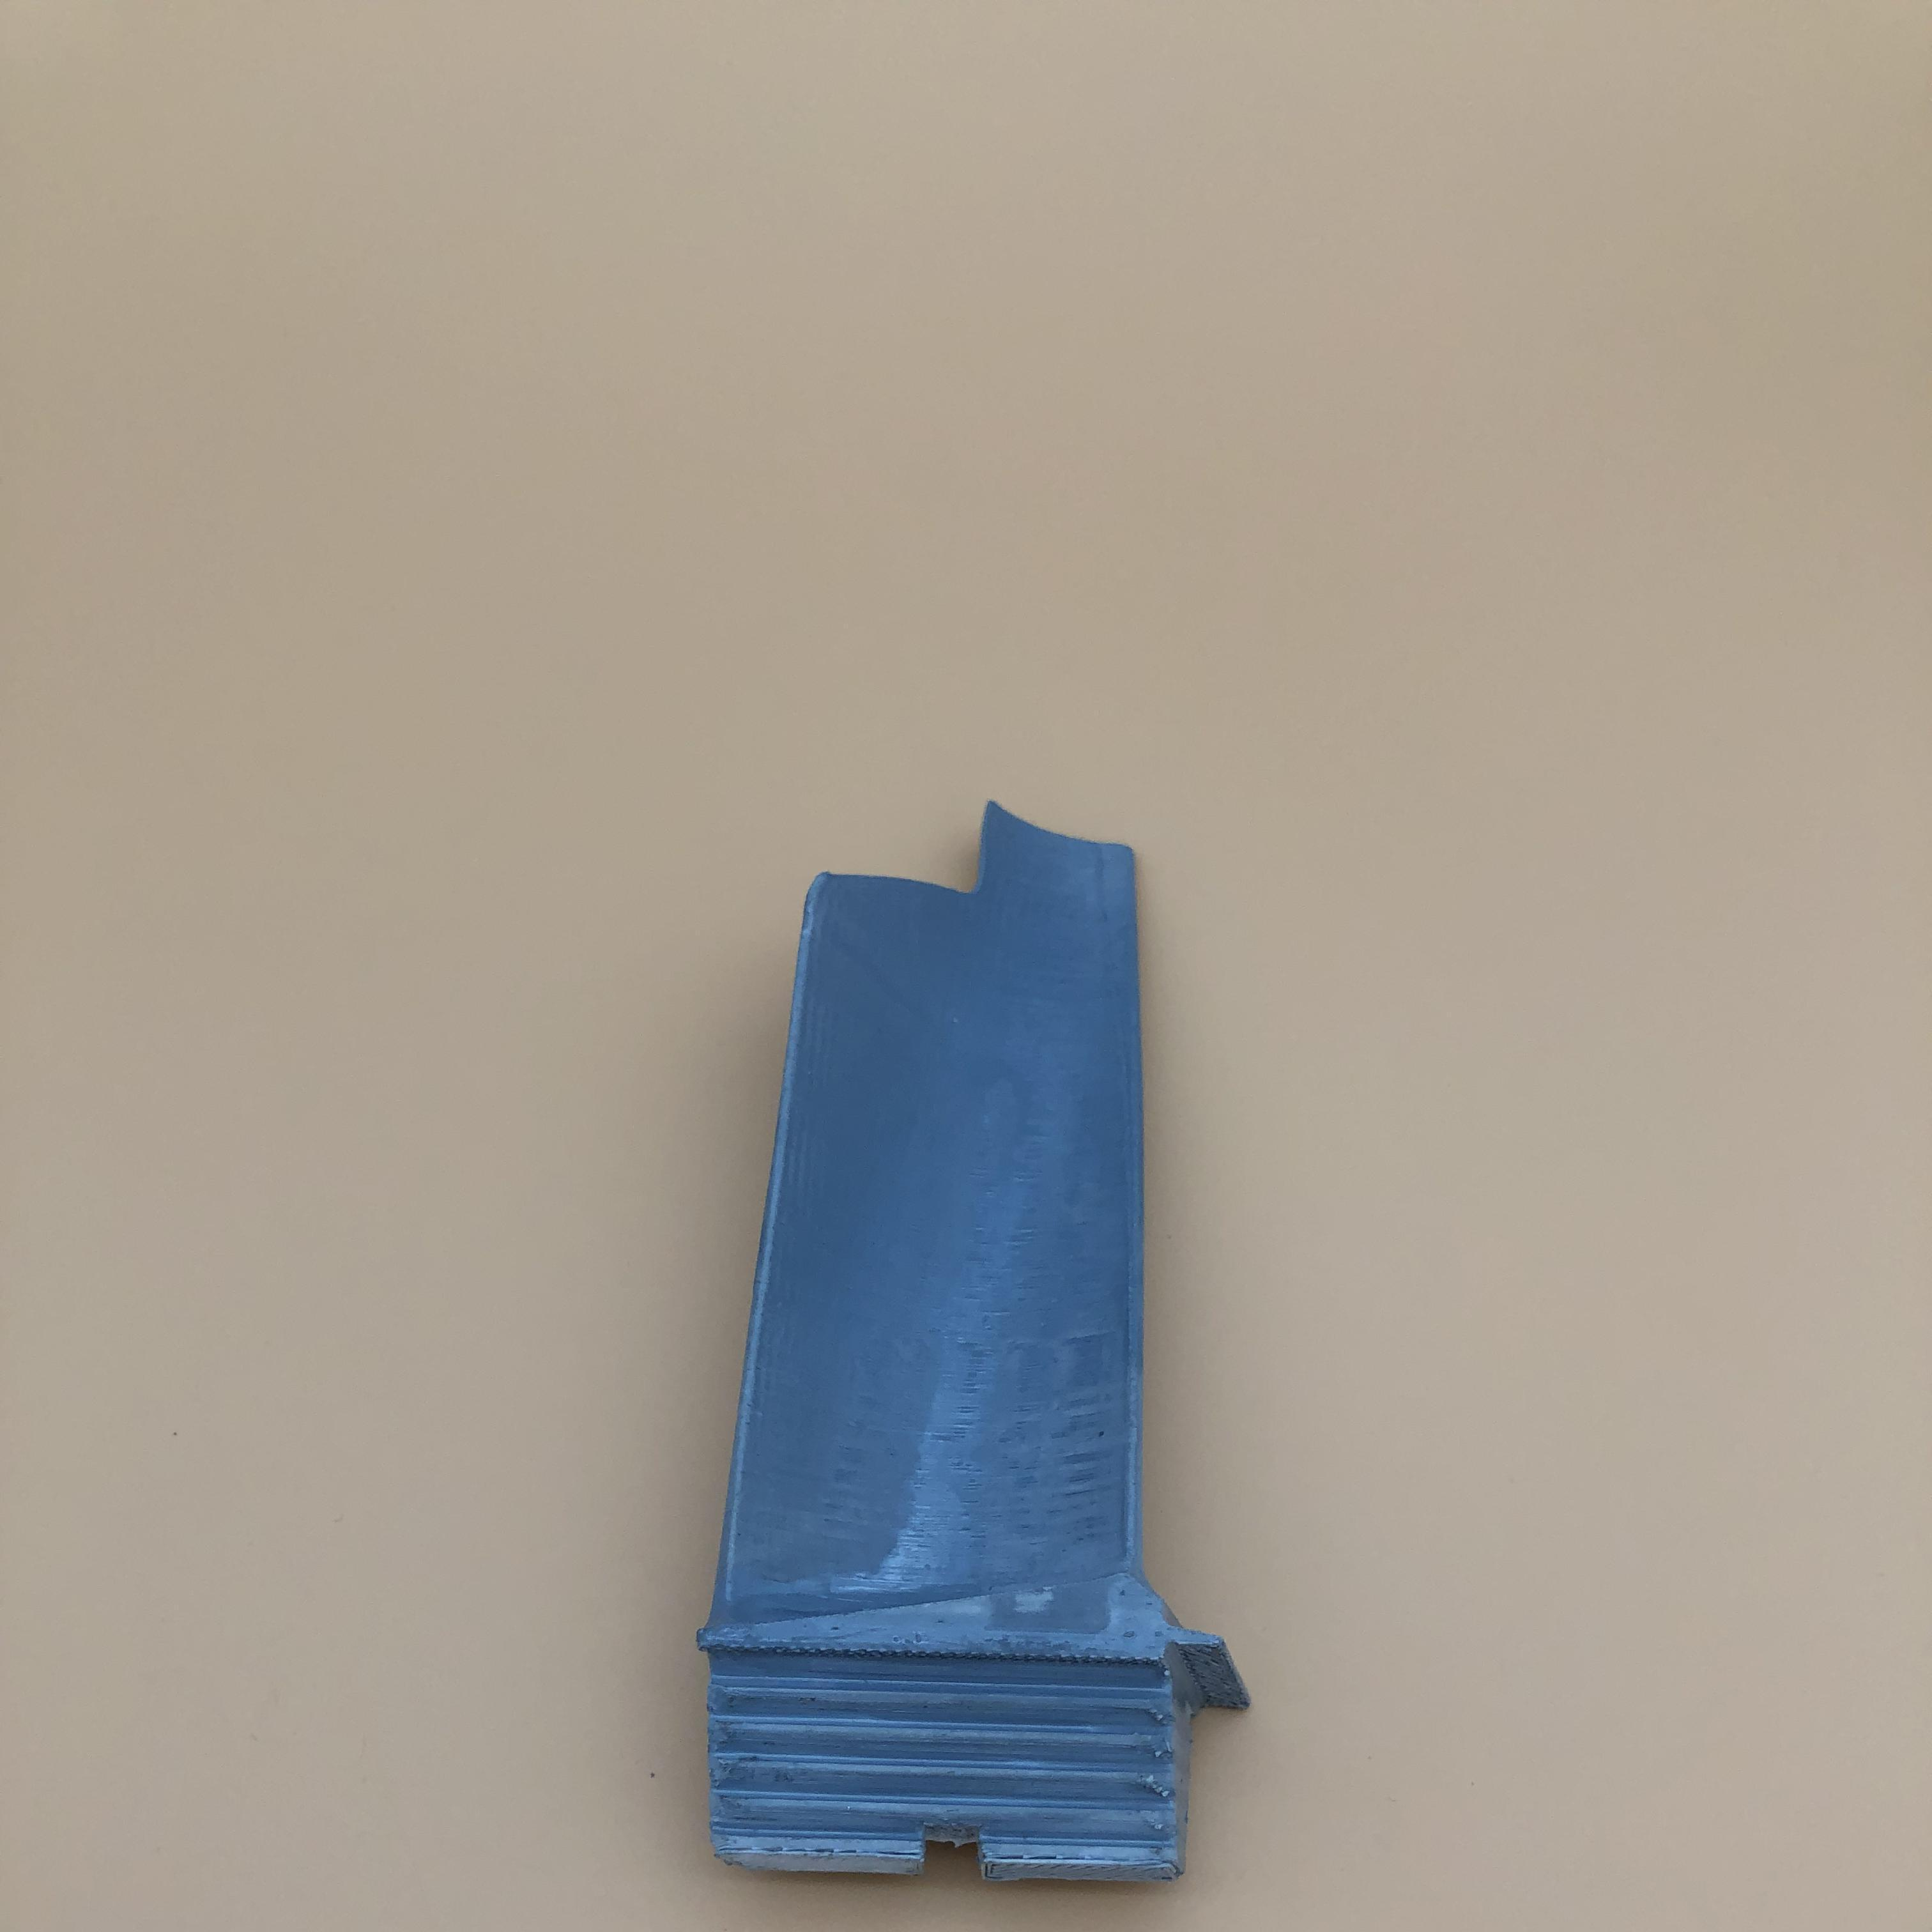fracture: (832, 812, 1047, 908)
